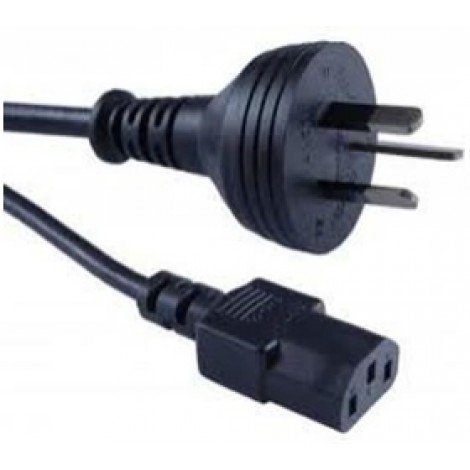Nonrec_Tangler: (8, 47, 443, 422)
